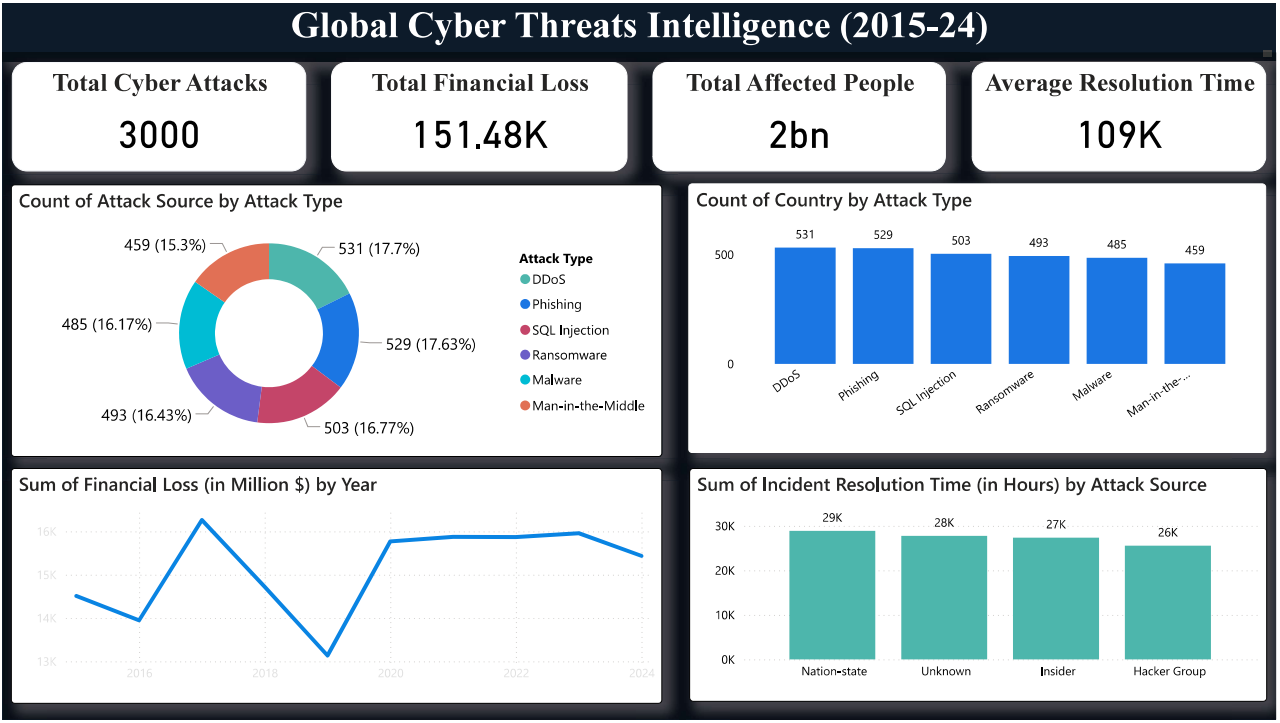

The dashboard page shown, as its layout file describes it:
{"tool":"powerbi","page":{"name":"Page 1","canvas":[1280,720],"ordinal":0},"visuals":[{"type":"textbox","title":"Global Cyber Threats Intelligence (2015-24)","box":[0,0,1280,58.3],"z":0},{"type":"card","title":"Total Cyber Attacks","fields":{"Values":["Global_Cyber_threats.all_type_attacks"]},"box":[8.8,58.8,296.2,110],"z":1000},{"type":"card","title":"Total Financial Loss","fields":{"Values":["Sum(Global_Cyber_threats.Financial Loss (in Million $))"]},"box":[330,58.8,297.5,110],"z":2000},{"type":"card","title":"Total Affected People","fields":{"Values":["Sum(Global_Cyber_threats.Number of Affected Users)"]},"box":[652.5,58.8,295,110],"z":3000},{"type":"card","title":"Average Resolution Time","fields":{"Values":["Sum(Global_Cyber_threats.Incident Resolution Time (in Hours))"]},"box":[973.8,58.8,296.2,110],"z":4000},{"type":"clusteredColumnChart","fields":{"Category":["Global_Cyber_threats.Attack Type"],"Y":["CountNonNull(Global_Cyber_threats.Country)"]},"box":[689.3,181,581,271.4],"z":5000},{"type":"donutChart","fields":{"Category":["Global_Cyber_threats.Attack Type"],"Y":["CountNonNull(Global_Cyber_threats.Attack Source)"]},"box":[8.3,182.1,654.8,273.8],"z":6000},{"type":"lineChart","fields":{"Category":["Global_Cyber_threats.Year"],"Y":["Sum(Global_Cyber_threats.Financial Loss (in Million $))"]},"box":[8.3,466.7,654.8,236.9],"z":7000},{"type":"clusteredColumnChart","fields":{"Category":["Global_Cyber_threats.Attack Source"],"Y":["Sum(Global_Cyber_threats.Incident Resolution Time (in Hours))"]},"box":[690.5,466.7,581,235.7],"z":8000}]}

Visuals, with their boxes in screenshot pixels (x1, y1, x2, y2), scaled from the page's 1280x720 canvas onto the 1280x723 screenshot:
"Global Cyber Threats Intelligence (2015-24)" textbox: Rect(0, 0, 1279, 59)
"Total Cyber Attacks" card: Rect(9, 59, 305, 170)
"Total Financial Loss" card: Rect(330, 59, 628, 170)
"Total Affected People" card: Rect(652, 59, 948, 170)
"Average Resolution Time" card: Rect(974, 59, 1270, 170)
clusteredColumnChart - Global_Cyber_threats.Attack Type x CountNonNull(Global_Cyber_threats.Country): Rect(689, 182, 1270, 454)
donutChart - Global_Cyber_threats.Attack Type x CountNonNull(Global_Cyber_threats.Attack Source): Rect(8, 183, 663, 458)
lineChart - Global_Cyber_threats.Year x Sum(Global_Cyber_threats.Financial Loss (in Million $)): Rect(8, 469, 663, 707)
clusteredColumnChart - Global_Cyber_threats.Attack Source x Sum(Global_Cyber_threats.Incident Resolution Time (in Hours)): Rect(690, 469, 1272, 705)
